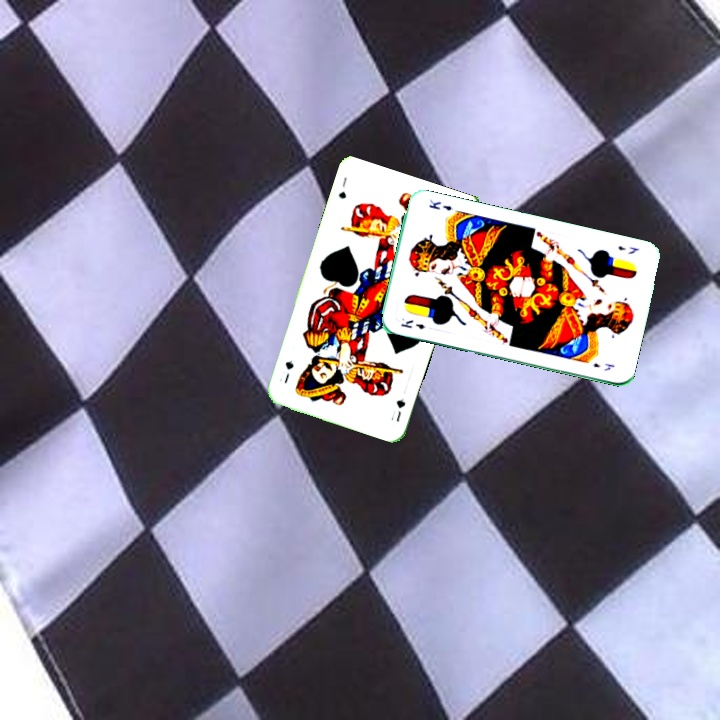EK: (397, 316, 427, 332), (614, 242, 642, 257)
GU: (392, 394, 408, 424), (334, 173, 349, 201)
